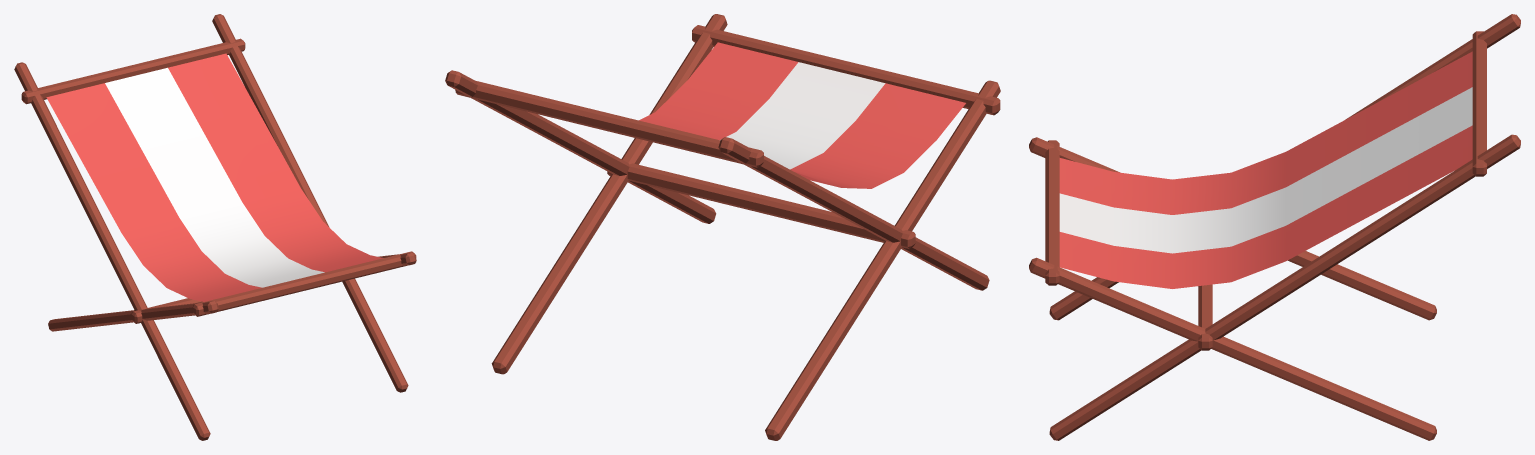
Rendered from Map02_Decor_Ghetua.fbx.
The picture shows the model from 3 angles, left to right: view 1: azimuth 30°, elevation 25°; view 2: azimuth 150°, elevation 25°; view 3: azimuth 270°, elevation 25°; orthographic projection. The views are drawn at different scales.
Visible parts, largest first — view 1: Map02_Decor_Ghetua; view 2: Map02_Decor_Ghetua; view 3: Map02_Decor_Ghetua.
Part boxes in pixels (x1,y1,x2,y2): Map02_Decor_Ghetua: (14, 14, 416, 440); Map02_Decor_Ghetua: (445, 14, 1000, 440); Map02_Decor_Ghetua: (1029, 14, 1520, 440).
Bounding box in the file's own units: 224 × 236 × 346.
